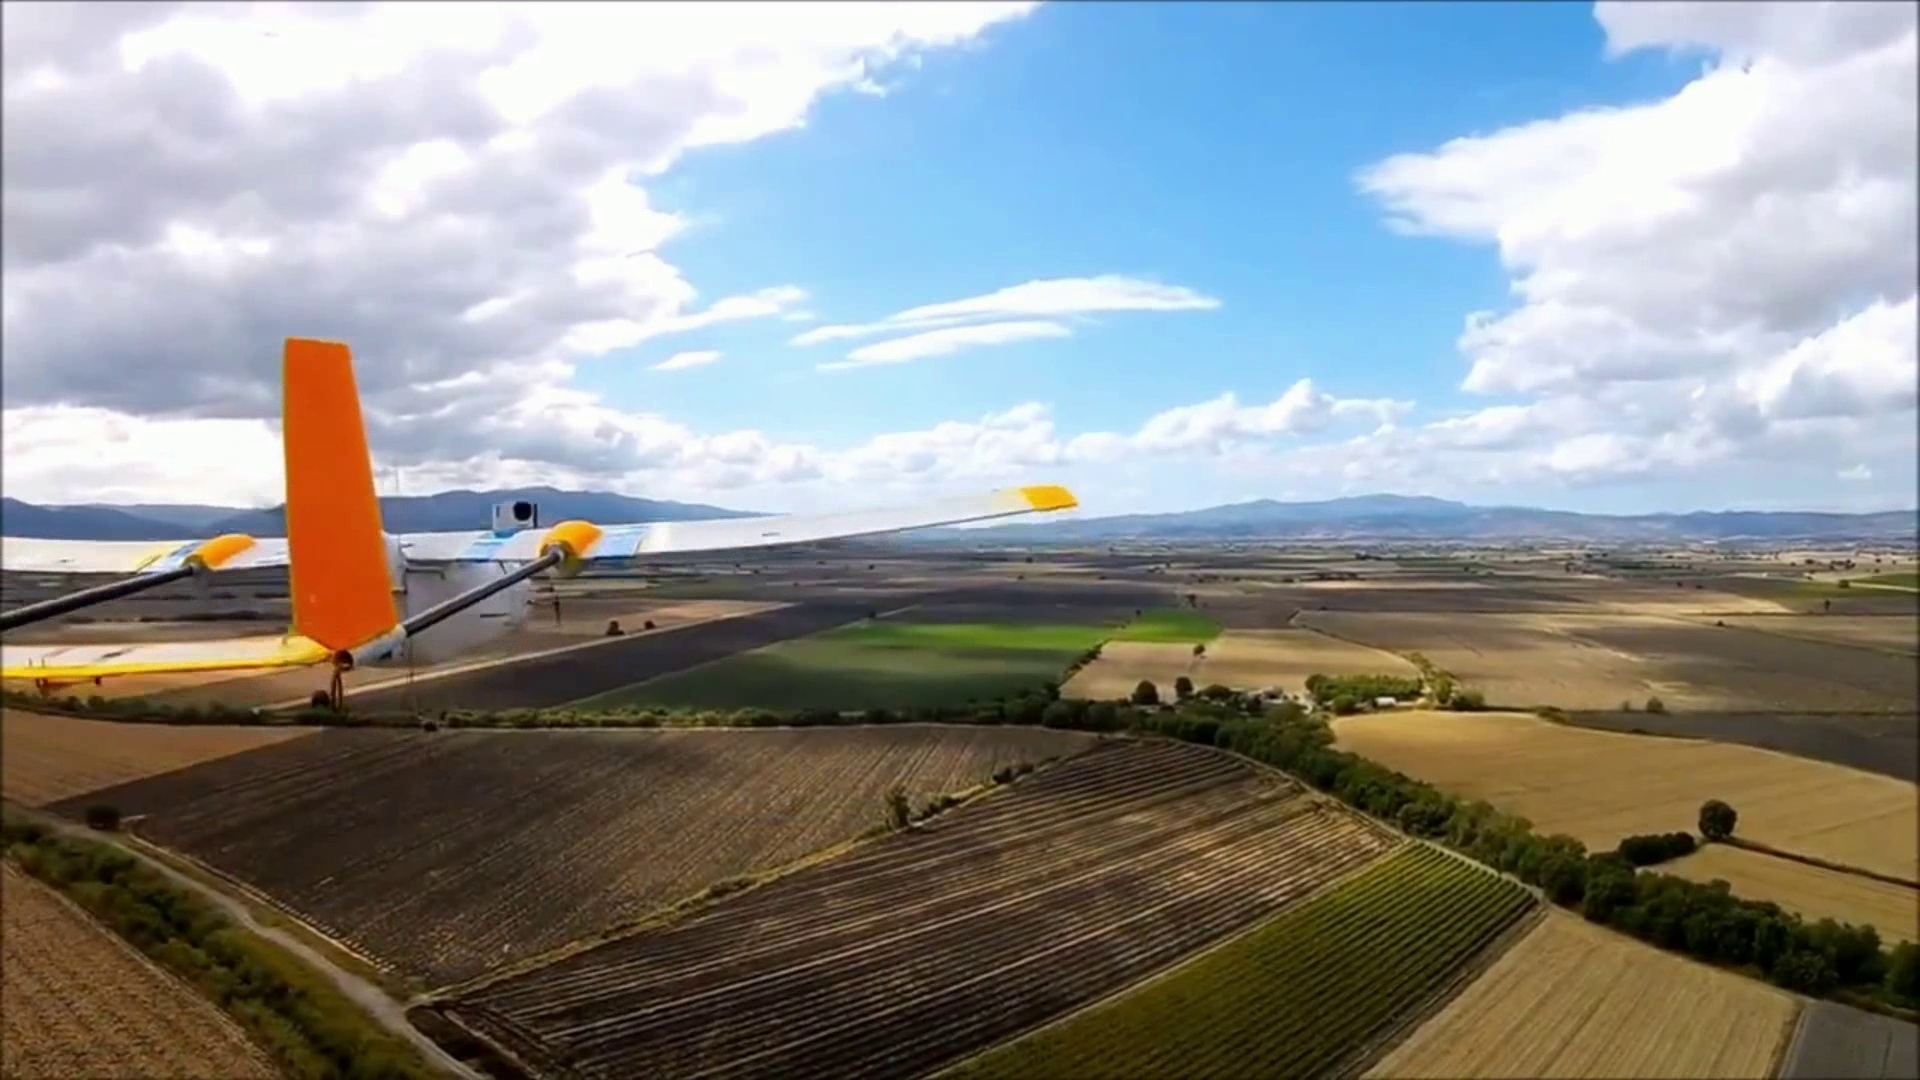airplane: (5, 342, 1077, 711), (0, 526, 272, 632)
